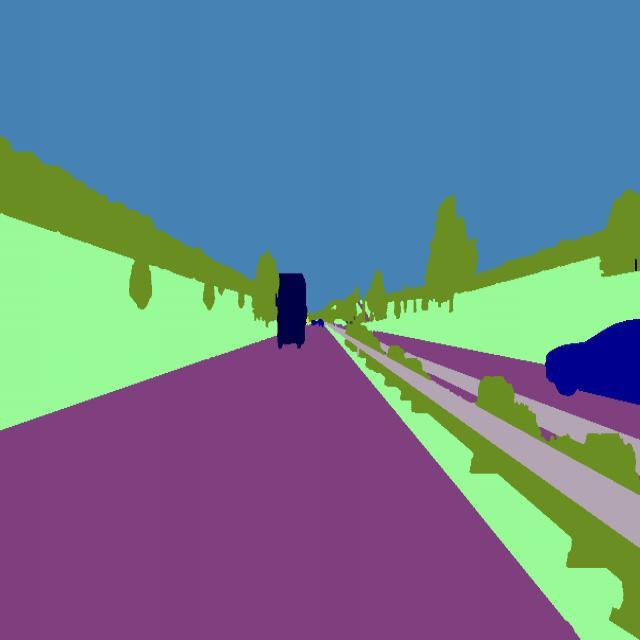safe: (546, 314, 640, 404), (275, 270, 308, 352), (316, 316, 326, 329)
